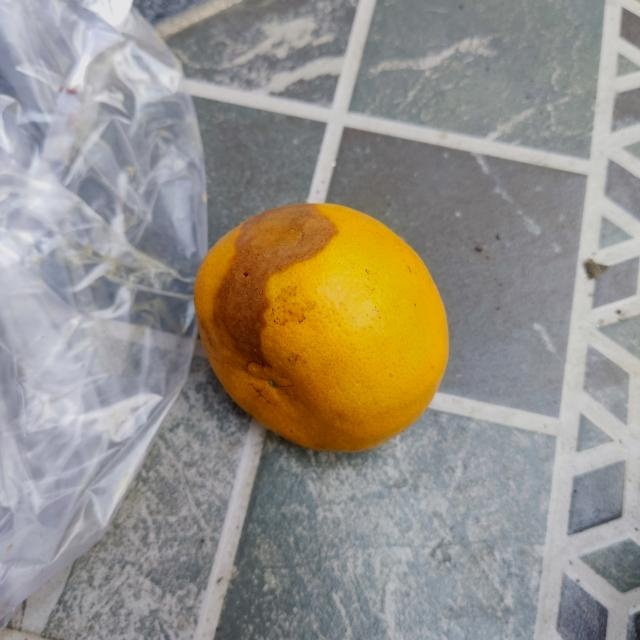agrume: (195, 200, 455, 454)
